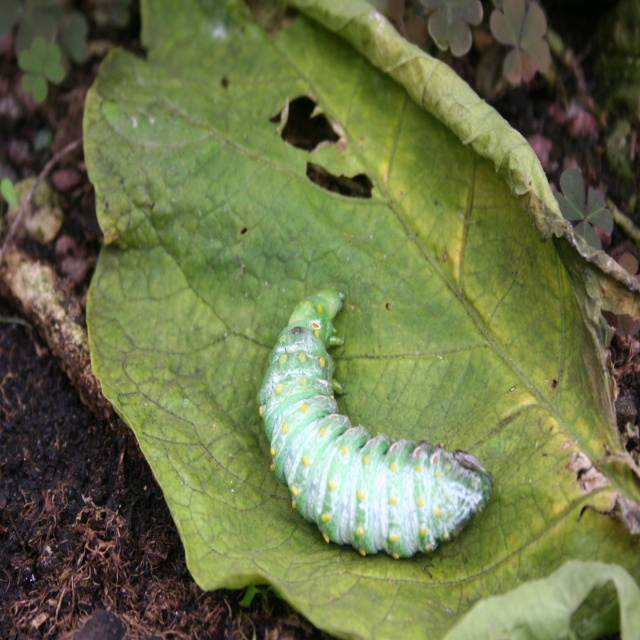Caterpillar: (256, 289, 494, 559)
